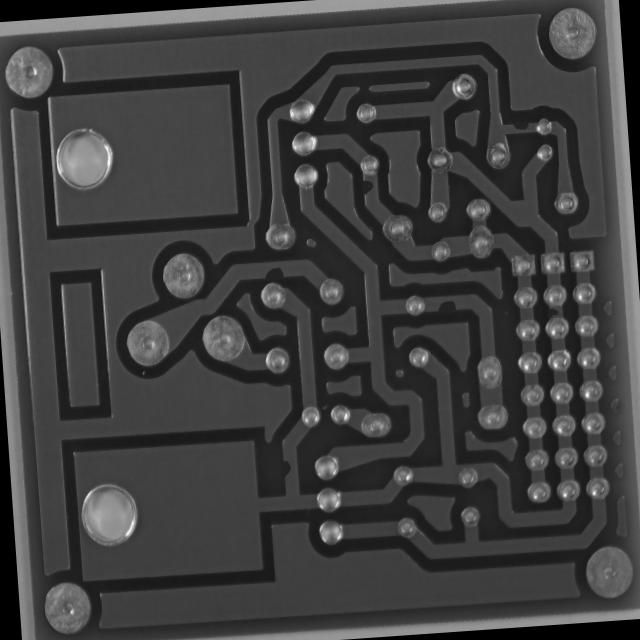mouse_bite: (260, 256, 286, 284), (359, 173, 382, 200), (433, 294, 460, 316), (278, 454, 301, 478), (510, 116, 532, 136), (544, 302, 564, 322)
